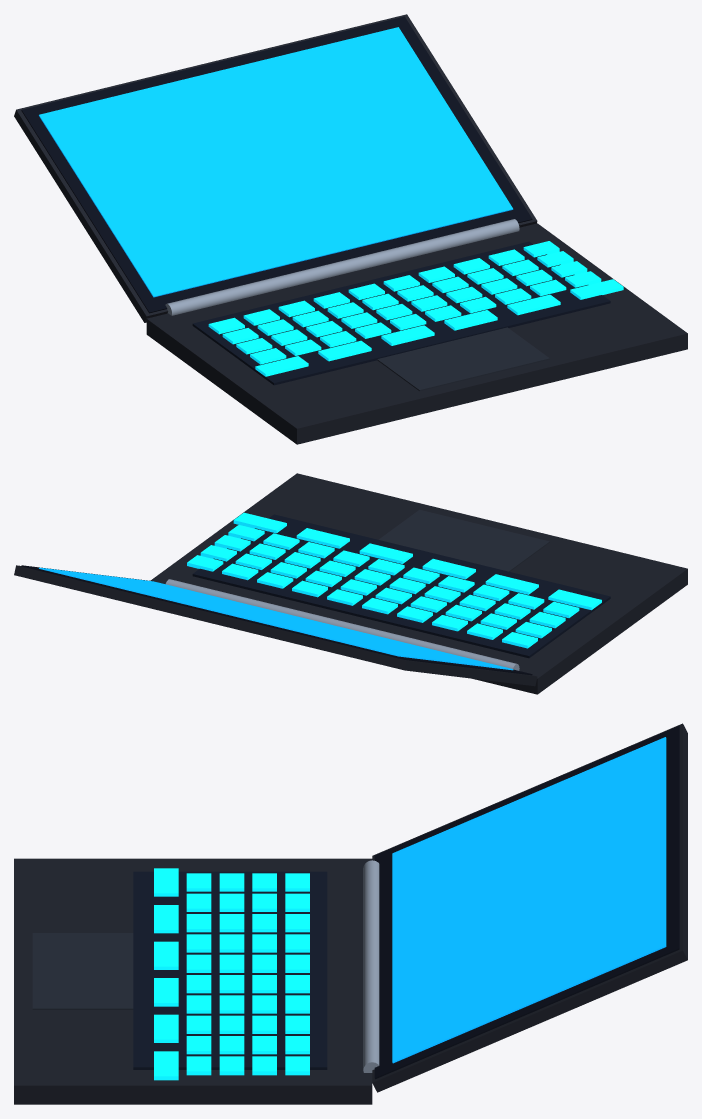
Rendered from laptop.glb.
3 renders of one model, top to bottom at view 1: azimuth 30°, elevation 25°; view 2: azimuth 150°, elevation 25°; view 3: azimuth 270°, elevation 25°, orthographic. The views are drawn at different scales.
Parts seen in each view (by area): view 1: FTS_Laptop; view 2: FTS_Laptop; view 3: FTS_Laptop.
Boxes of the visible parts, x1,y1,x2,y2 form: FTS_Laptop: (14,14,687,444); FTS_Laptop: (14,473,687,694); FTS_Laptop: (14,723,687,1104).
Bounding box in the file's own units: 3.96 × 1.25 × 4.97.
